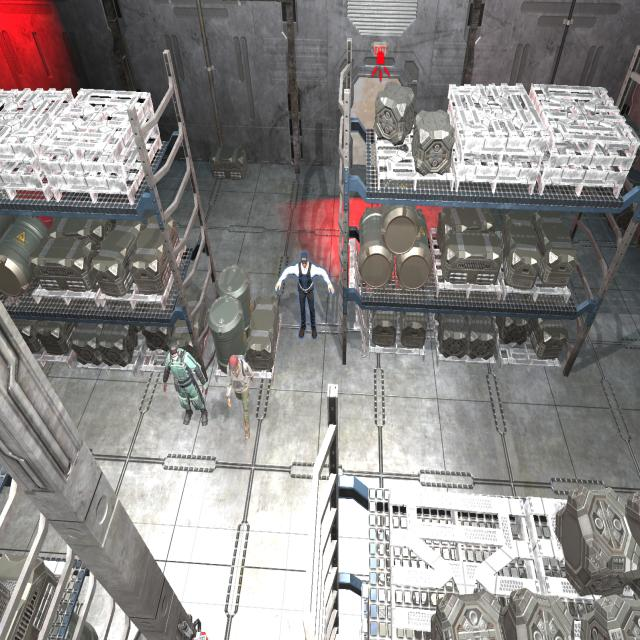thiefs: (225, 354, 257, 444)
